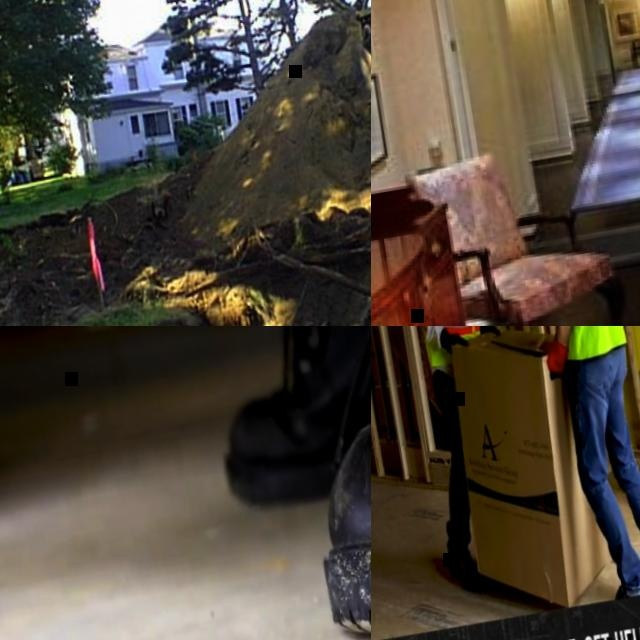Person: (0, 326, 371, 640), (380, 326, 540, 593), (499, 326, 640, 607)
Safety Vest: (400, 326, 496, 364)
